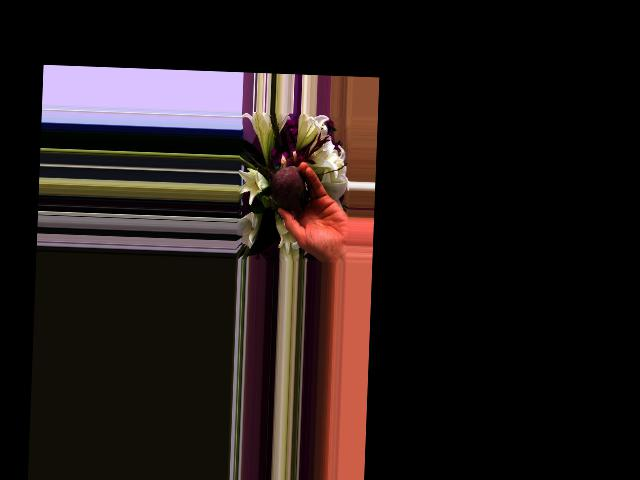beet: (240, 147, 312, 210)
